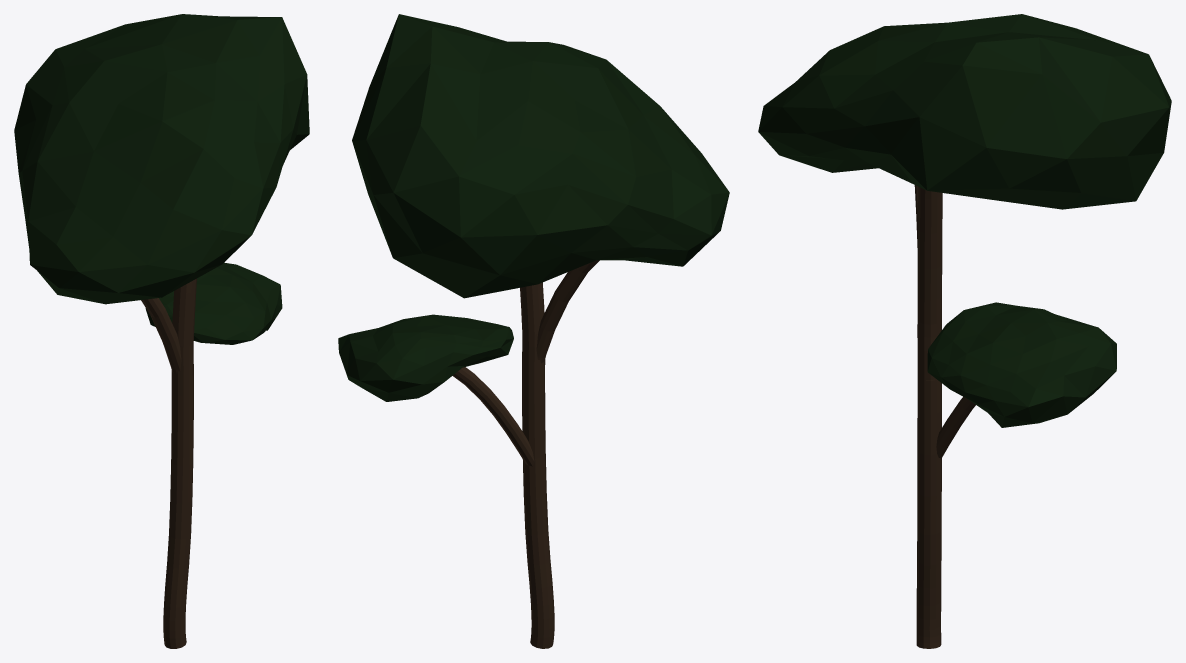
File: SM_light_tree_11.fbx
The picture shows the model from 3 angles, left to right: view 1: azimuth 30°, elevation 25°; view 2: azimuth 150°, elevation 25°; view 3: azimuth 270°, elevation 25°; orthographic projection. The views are drawn at different scales.
Visible parts, largest first — view 1: light_tree_11; view 2: light_tree_11; view 3: light_tree_11.
Boxes of the visible parts, x1,y1,x2,y2 form: light_tree_11: (14,14,309,648); light_tree_11: (338,14,729,648); light_tree_11: (758,14,1171,648).
Size of the model in its own units: 35.4 by 65.39 by 37.78.
